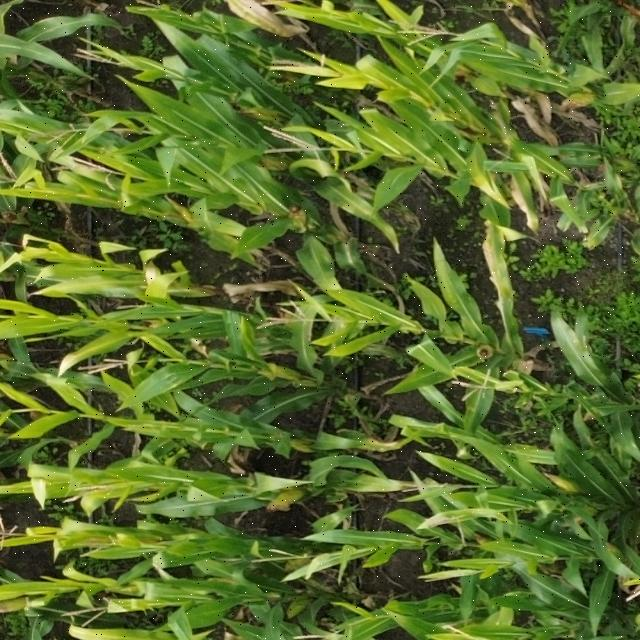northern-leaf-blight: (450, 156, 557, 229), (469, 223, 532, 309), (314, 427, 417, 461)
